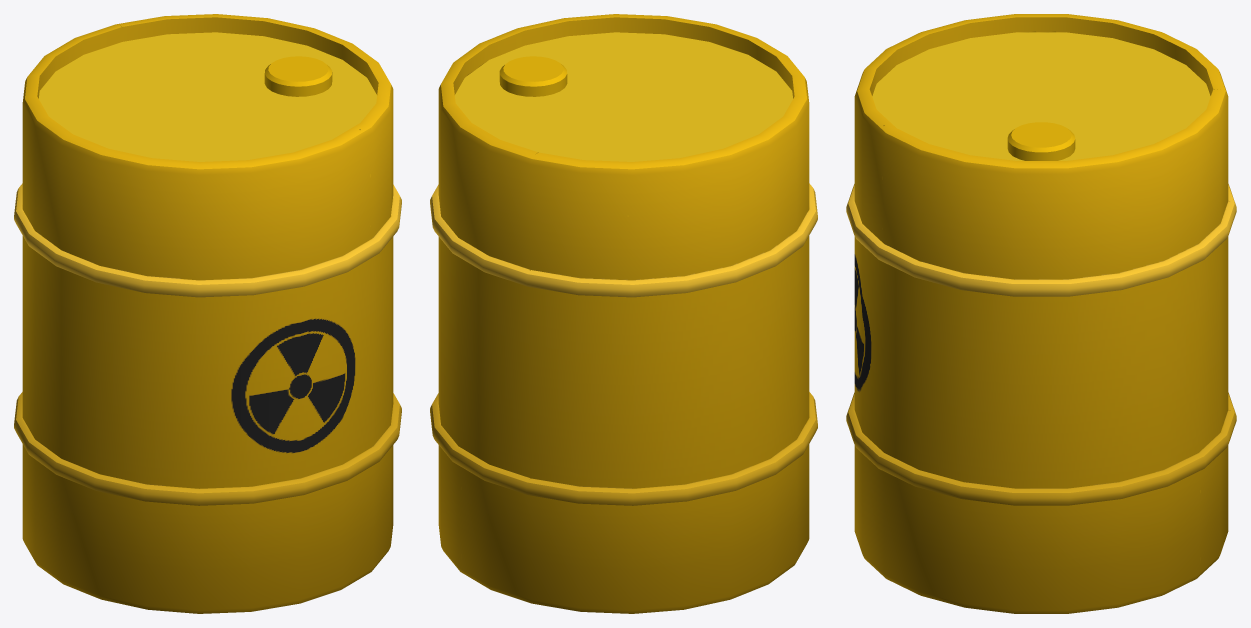
The model's file is barrel-full.glb.
The picture shows the model from 3 angles, left to right: view 1: azimuth 30°, elevation 25°; view 2: azimuth 150°, elevation 25°; view 3: azimuth 270°, elevation 25°; orthographic projection.
Visible parts, largest first — view 1: barrel-full; view 2: barrel-full; view 3: barrel-full.
Part boxes in pixels (left/top/right/bottom): barrel-full: left=14, top=14, right=401, bottom=613; barrel-full: left=430, top=14, right=817, bottom=613; barrel-full: left=846, top=14, right=1236, bottom=613.
Bounding box in the file's own units: 0.6966 × 0.8942 × 0.7037.
Materials: 1 (1 with a texture image).
